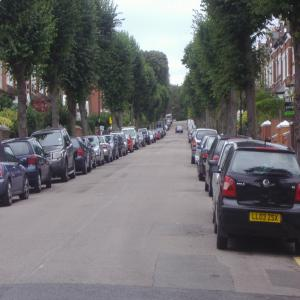Vehicle-registration-plate: (250, 213, 282, 226)
